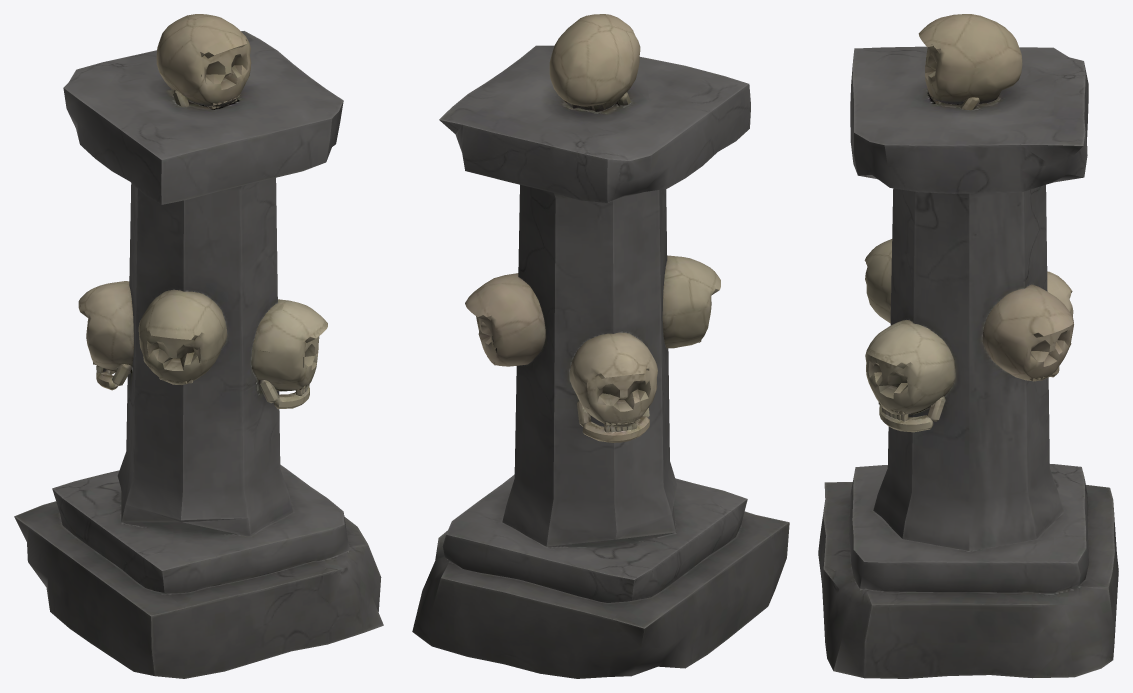
File: skull_pillar.glb
3 views of the same model, side by side, from view 1: azimuth 30°, elevation 25°; view 2: azimuth 150°, elevation 25°; view 3: azimuth 270°, elevation 25° (orthographic).
Visible parts, largest first — view 1: skull_pillar; view 2: skull_pillar; view 3: skull_pillar.
Boxes of the visible parts, bbox=[...] form: skull_pillar: bbox=[14, 14, 383, 678]; skull_pillar: bbox=[412, 14, 789, 678]; skull_pillar: bbox=[818, 14, 1118, 678].
Size of the model in its own units: 0.6314 by 1.4 by 0.6333.
Materials: 1 (1 with a texture image).
